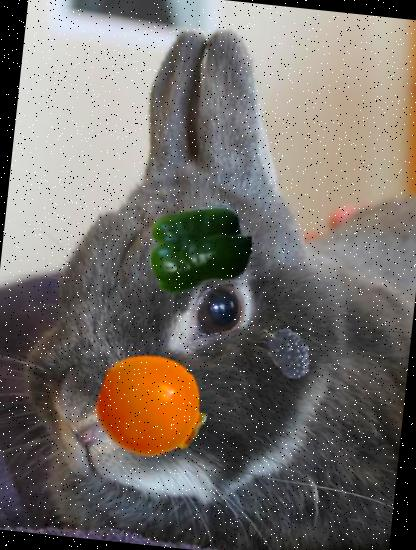Mulberry: (256, 315, 324, 383)
Pepper: (144, 193, 258, 307)
Physalis: (92, 348, 212, 468)
